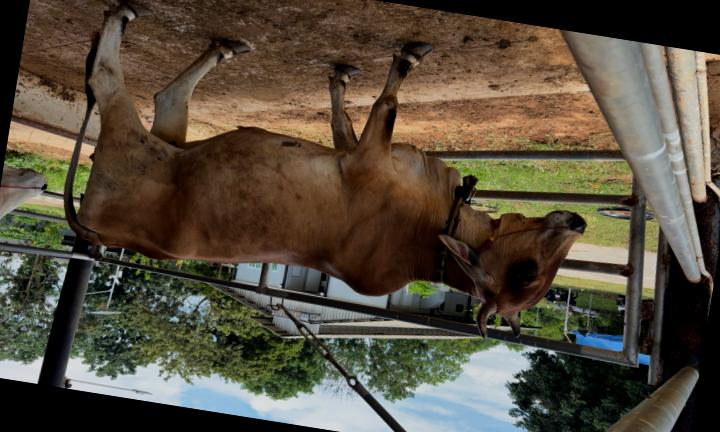Brahman: (65, 2, 586, 337)
